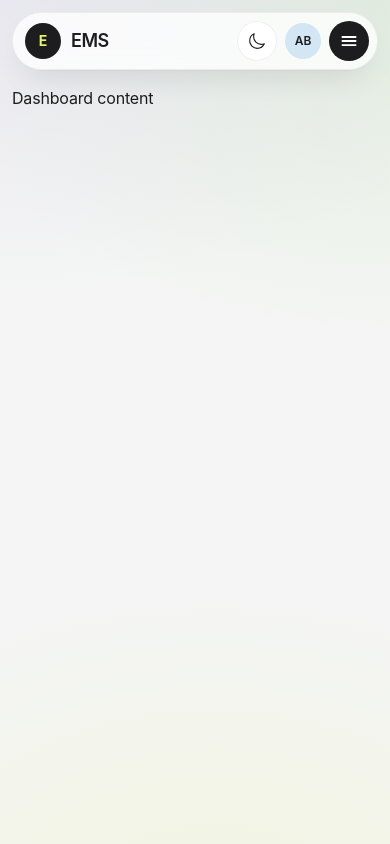
DashboardLayout › opens the drawer from the menu button and closes it with Escape
This screenshot has width=390, height=844.
Click the button named "Menu". click: click(349, 41)
box: [329,21,369,61]
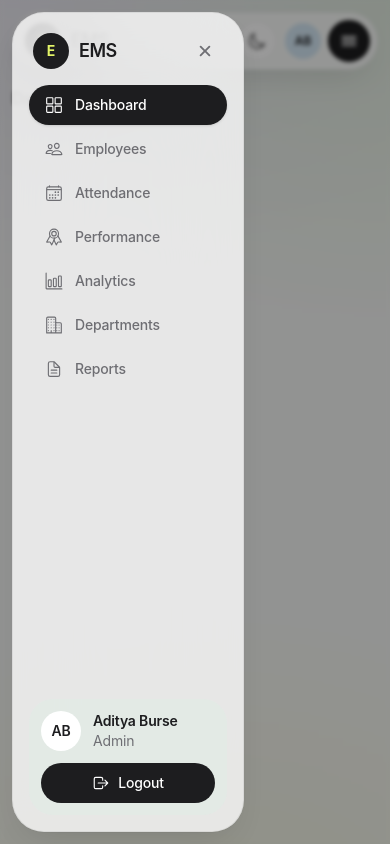
Expected: the button named "Menu" is expanded, [329,21,369,61]
Press Escape
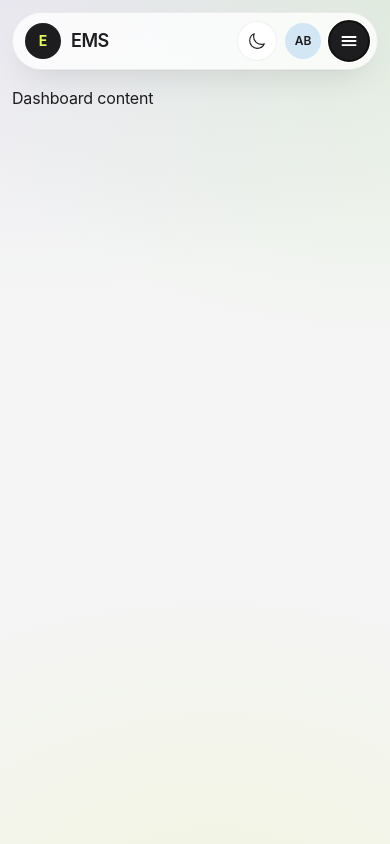
Expected: the button named "Menu" is collapsed, [329,21,369,61]
